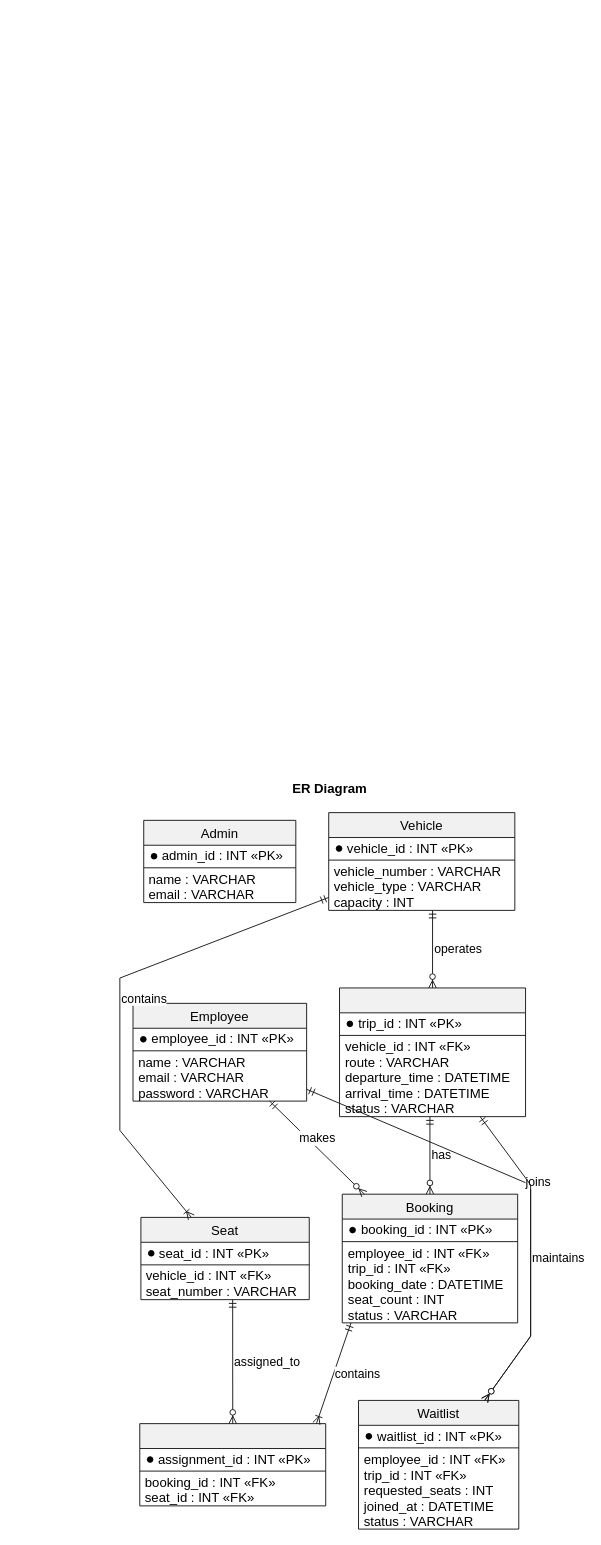
Some shapes in this 601 by 1545 pixel diagram are drawn without their labels. The shapes that lost their labels are listed below. From the top down, each one's box as (x1, y1, x2, y2) in pixels, then its label:
(339, 987, 526, 1117): Shuttle_Trip
(139, 1423, 326, 1506): Seat_Assignment
